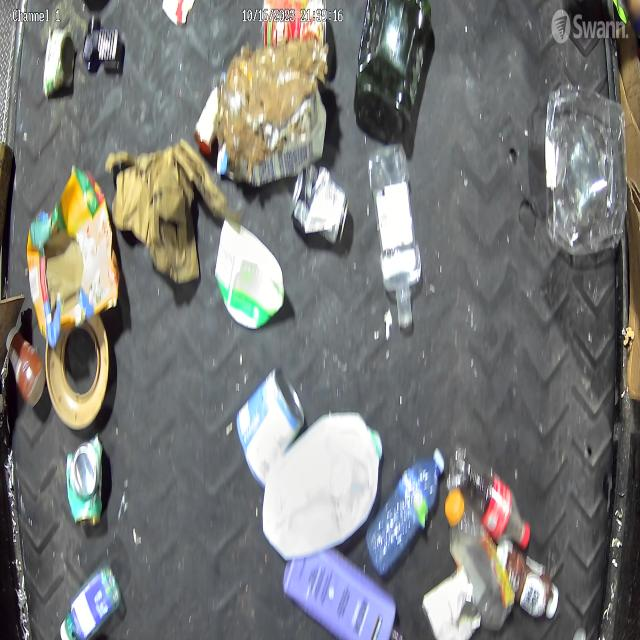can: (235, 364, 306, 492), (292, 162, 351, 248), (66, 431, 106, 528), (261, 0, 329, 49), (42, 22, 77, 98)
milk_jug: (260, 408, 385, 562)
plastic_bottle: (446, 486, 515, 632), (367, 447, 445, 572), (445, 442, 533, 552)
